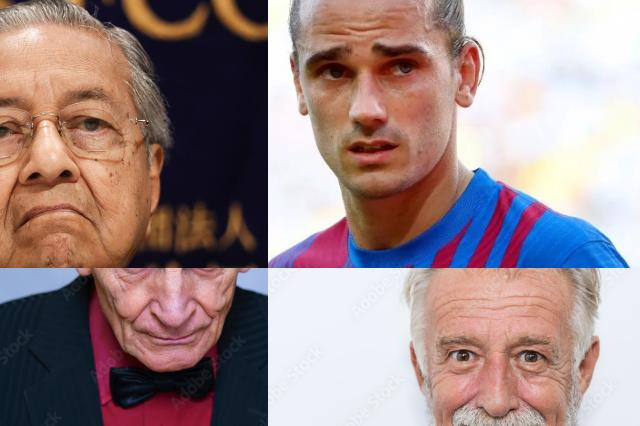chin: (43, 253, 60, 268)
crows_feet: (548, 356, 564, 378), (430, 352, 446, 372)
forehead: (320, 20, 398, 42), (498, 292, 530, 320), (434, 292, 462, 320), (534, 289, 558, 321), (466, 293, 492, 319)
gummy_smile: (79, 170, 107, 214), (3, 174, 20, 224), (129, 296, 151, 322), (453, 392, 477, 411), (521, 394, 543, 414), (194, 296, 212, 320)
masseter: (209, 312, 225, 338), (106, 290, 120, 312)
sad_smile: (92, 223, 112, 255), (3, 232, 19, 268)
